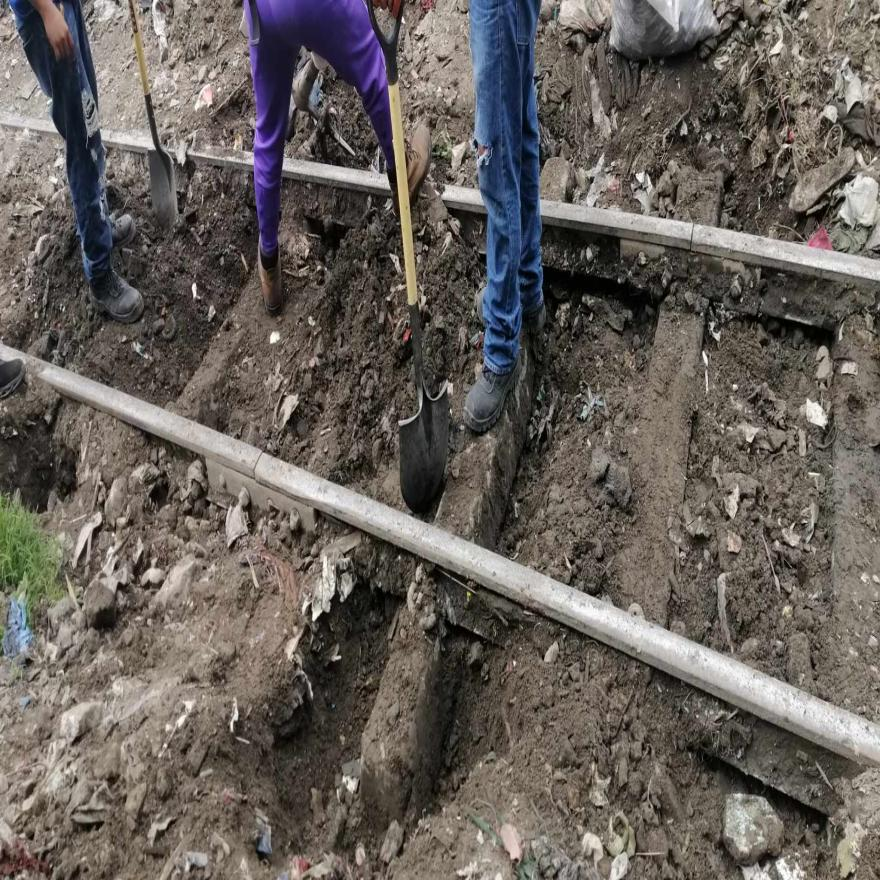railway-gap: (239, 417, 278, 504), (675, 191, 713, 272)
